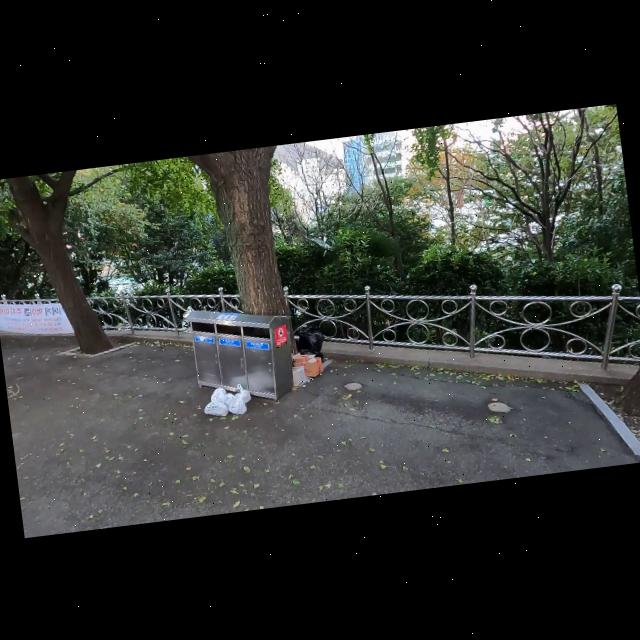trash: (294, 322, 326, 352), (291, 355, 324, 379), (294, 345, 325, 366), (202, 394, 228, 419), (229, 382, 252, 405), (224, 394, 248, 416), (207, 385, 228, 405), (290, 362, 307, 386), (216, 390, 236, 408), (292, 352, 308, 364)
